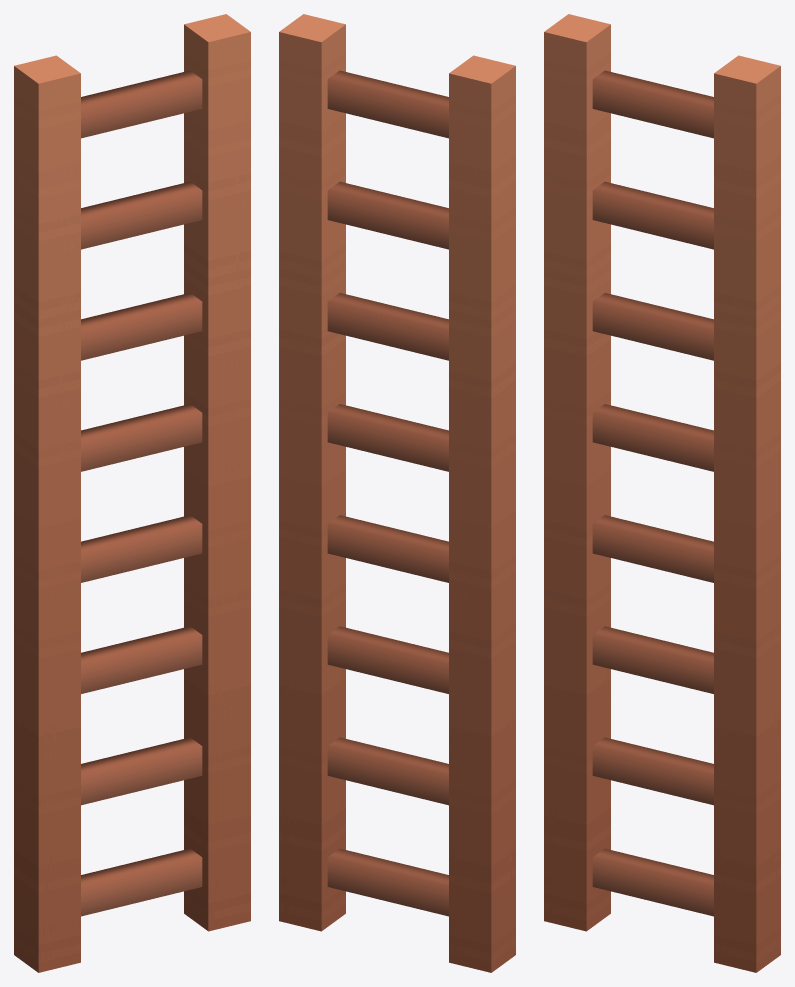
Rendered from interactable_ladder.glb.
3 renders of one model, left to right at view 1: azimuth 30°, elevation 25°; view 2: azimuth 150°, elevation 25°; view 3: azimuth 330°, elevation 25°, orthographic.
Visible parts, largest first — view 1: ladder-long; view 2: ladder-long; view 3: ladder-long.
Boxes of the visible parts, x1=… form: ladder-long: x1=14, y1=14, x2=250, y2=972; ladder-long: x1=279, y1=14, x2=515, y2=972; ladder-long: x1=544, y1=14, x2=780, y2=972.
Size of the model in its own units: 0.5 by 2 by 0.1.
1 material, 1 textured.
